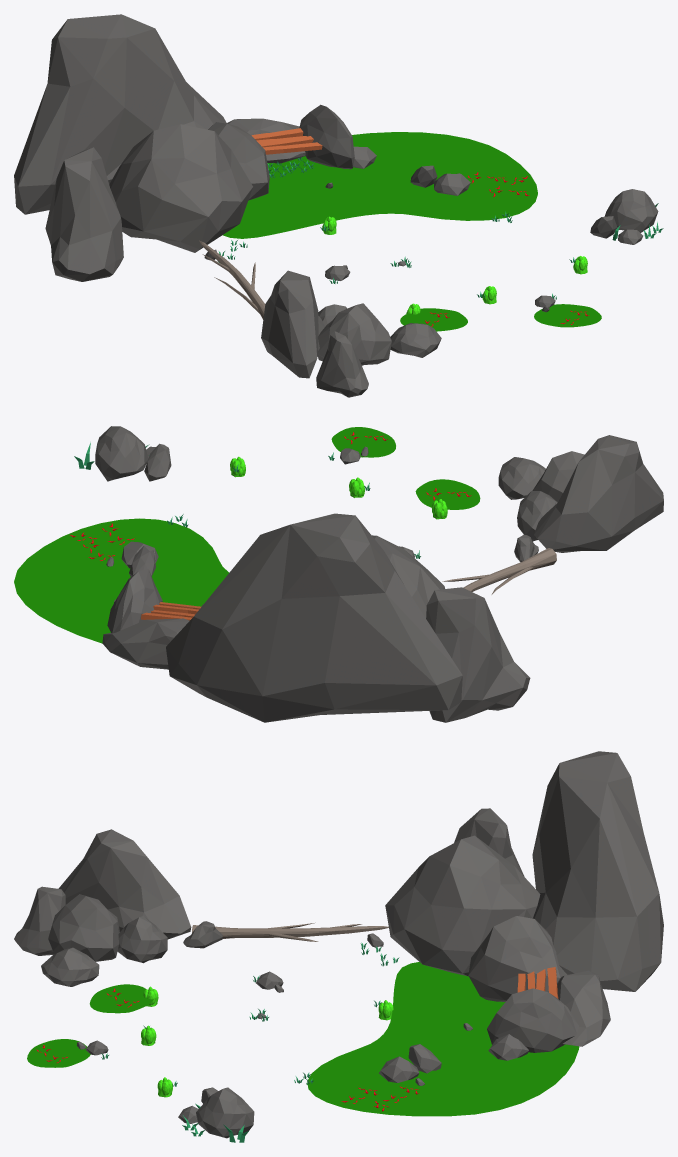
The model's file is tmgtchi-transformed.glb.
3 renders of one model, top to bottom at view 1: azimuth 30°, elevation 25°; view 2: azimuth 150°, elevation 25°; view 3: azimuth 270°, elevation 25°, orthographic. The views are drawn at different scales.
Visible parts, largest first — view 1: rocktall.006; view 2: rocktall.006; view 3: rocktall.006.
Boxes of the visible parts, bbox=[...] form: rocktall.006: bbox=[14, 14, 663, 397]; rocktall.006: bbox=[14, 426, 663, 722]; rocktall.006: bbox=[14, 751, 663, 1142].
Bounding box in the file's own units: 54.96 × 20.22 × 57.78.
1 material, 1 textured.
